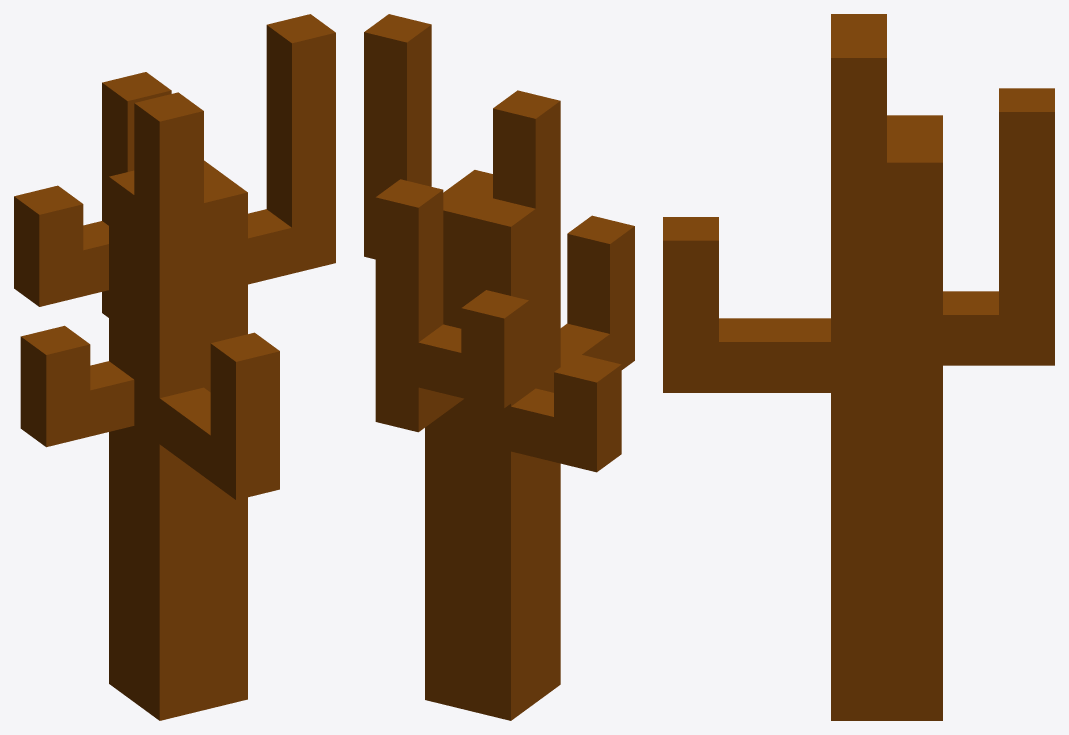
File: deadTree03.obj
The picture shows the model from 3 angles, left to right: view 1: azimuth 30°, elevation 25°; view 2: azimuth 150°, elevation 25°; view 3: azimuth 270°, elevation 25°; orthographic projection. The views are drawn at different scales.
Visible parts, largest first — view 1: deadTree03; view 2: deadTree03; view 3: deadTree03.
Boxes of the visible parts, x1=… form: deadTree03: x1=14, y1=14, x2=335, y2=720; deadTree03: x1=364, y1=14, x2=634, y2=720; deadTree03: x1=663, y1=14, x2=1054, y2=720.
Size of the model in its own units: 6 by 14 by 7.
Materials: 1 (1 with a texture image).
